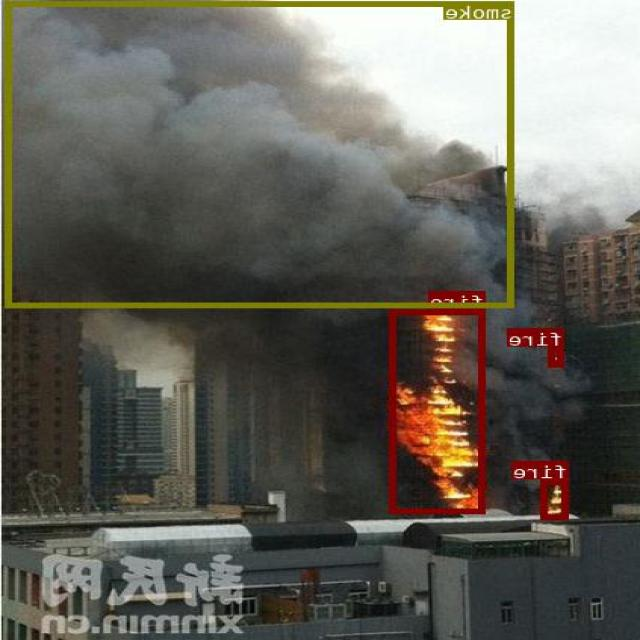fire: (392, 309, 486, 512), (542, 479, 570, 518), (549, 346, 565, 366)
smoke: (7, 0, 515, 306)
